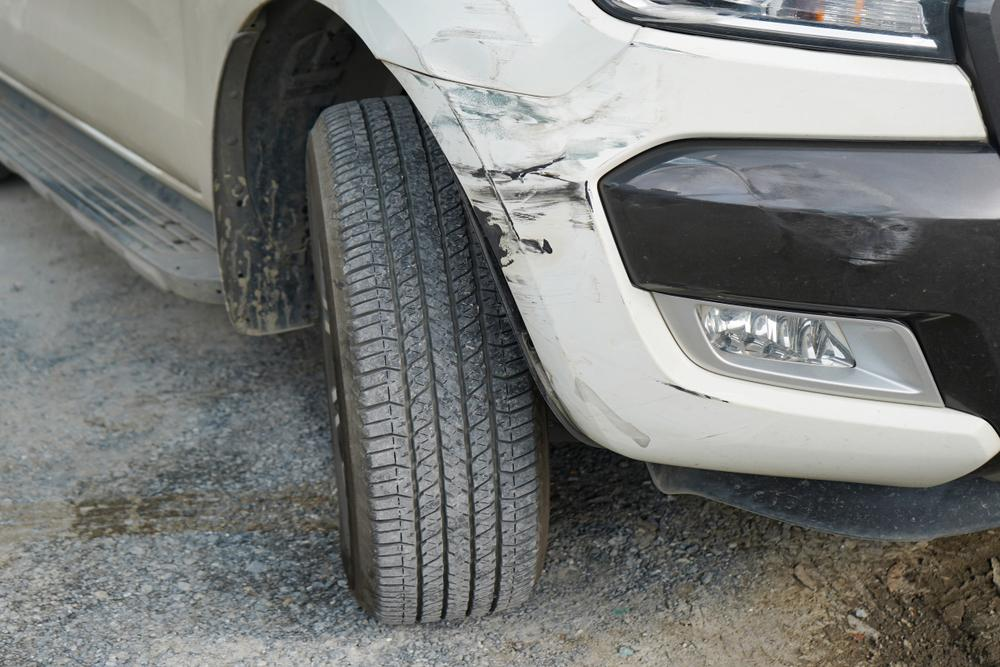scratch: (420, 0, 660, 311), (655, 378, 732, 409)
